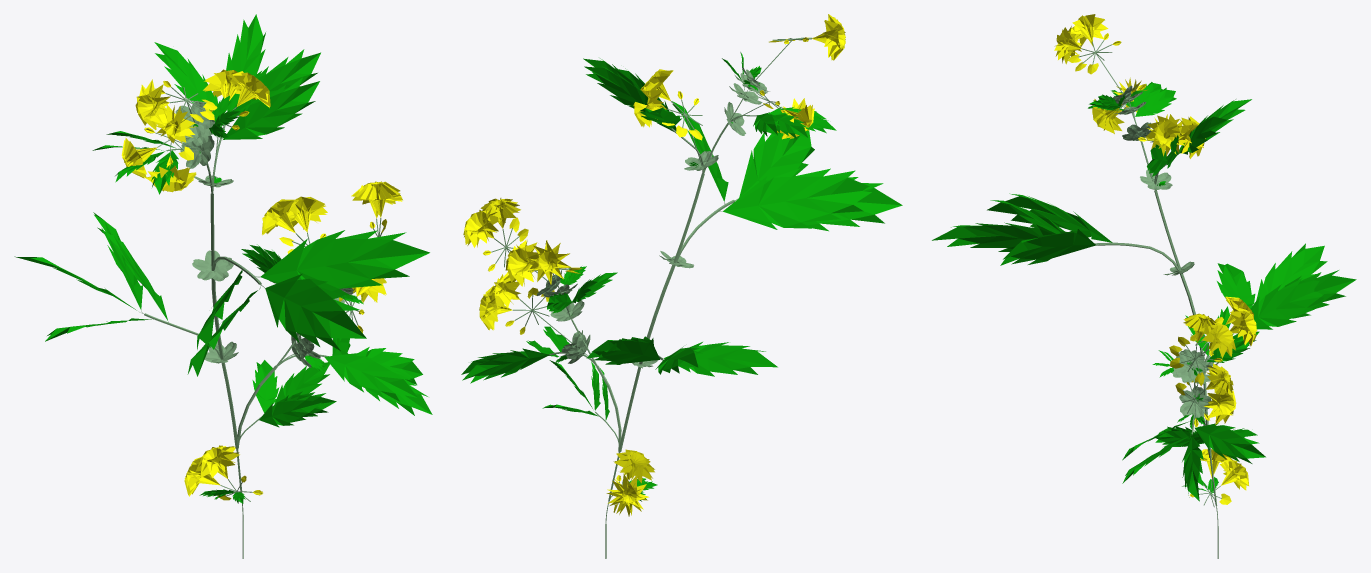
The picture shows the model from 3 angles, left to right: view 1: azimuth 30°, elevation 25°; view 2: azimuth 150°, elevation 25°; view 3: azimuth 270°, elevation 25°; orthographic projection. The views are drawn at different scales.
Visible parts, largest first — view 1: 1Newplan; view 2: 1Newplan; view 3: 1Newplan.
Boxes of the visible parts, box(x1,y1,x2,y2) form: 1Newplan: box(14, 14, 432, 558); 1Newplan: box(461, 14, 902, 558); 1Newplan: box(932, 14, 1356, 558).
Bounding box in the file's own units: 1.85 × 2.8 × 2.26.
